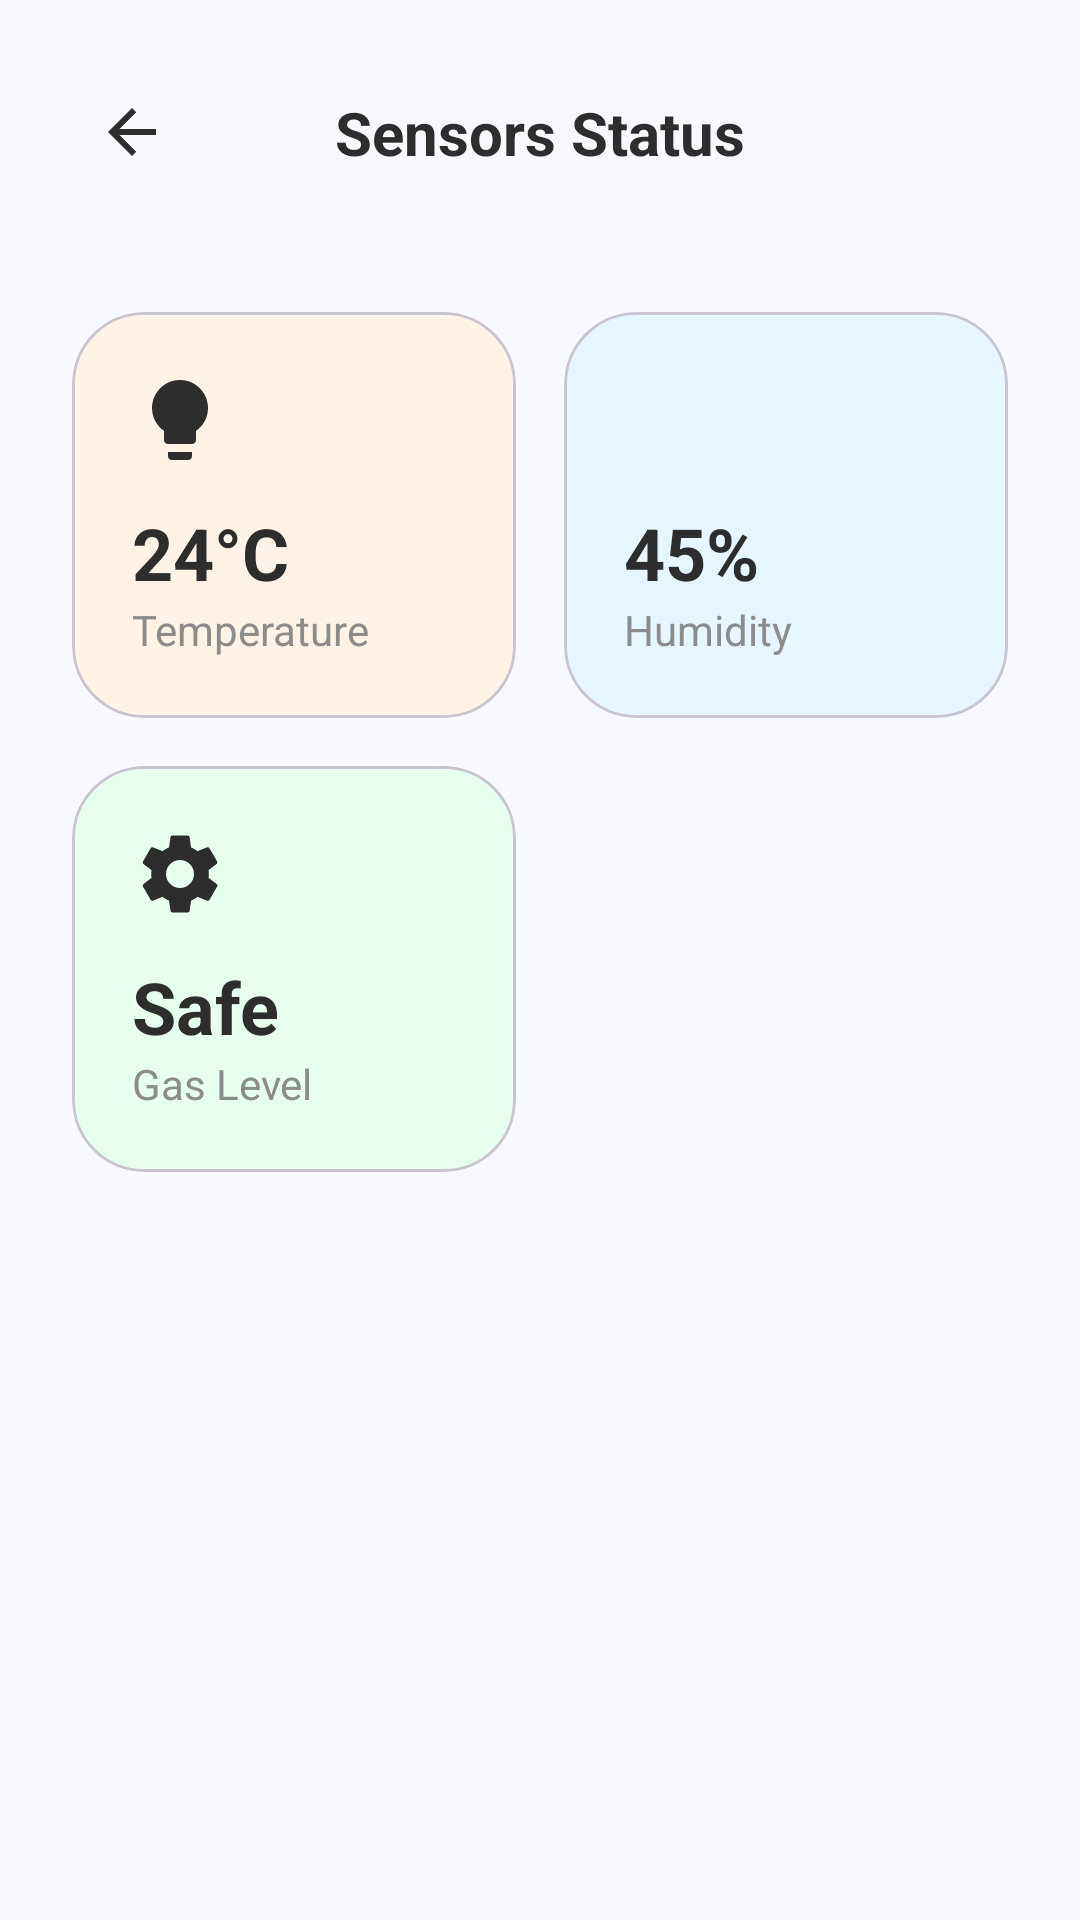

Icon click points for this 1080*1920 phone screenshot, format [x,y]:
arrow back: [132,132]
settings: [180,874]
